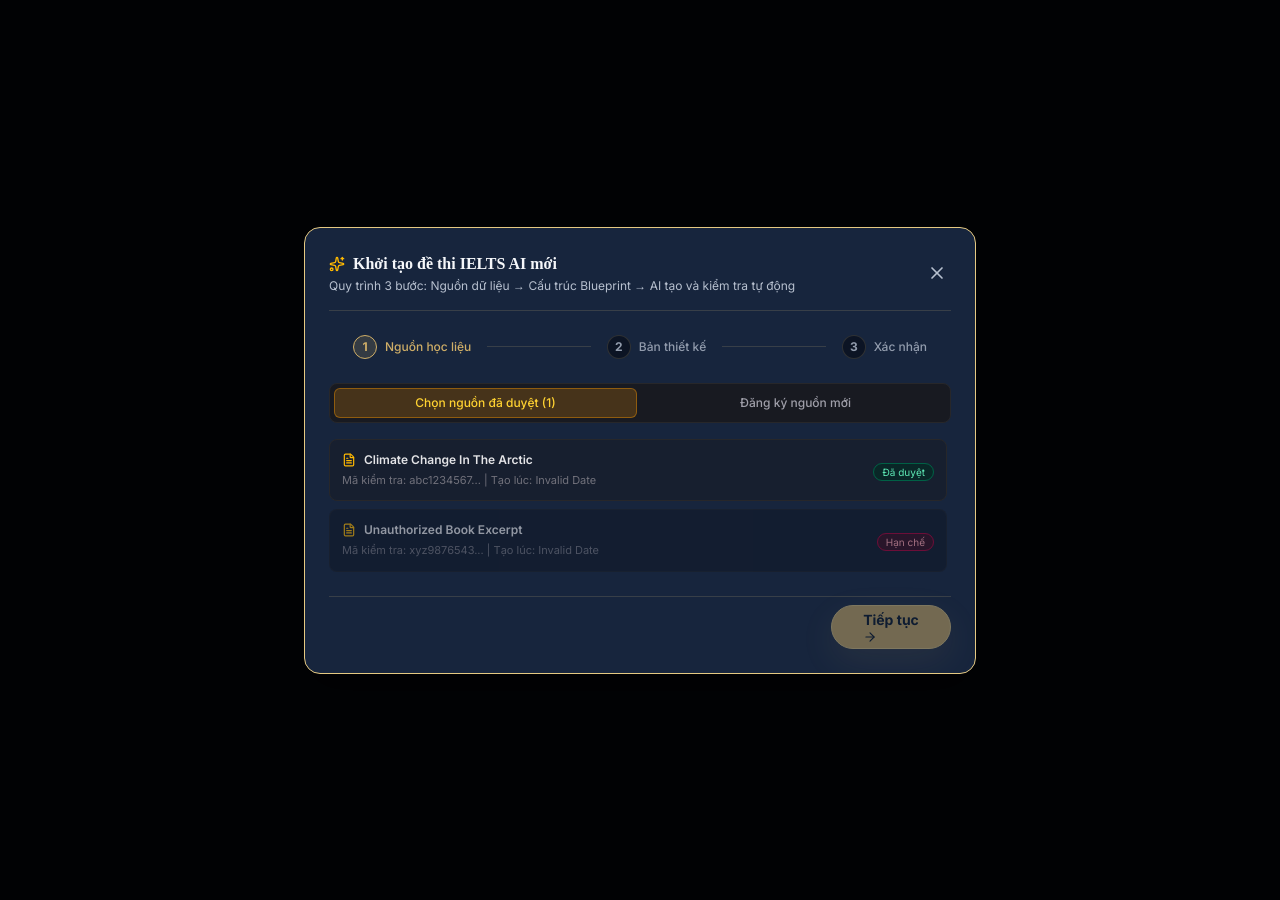
Test case: NewGenerationWizardModal › keeps generator confirmation content readable and reports a contextual launch error
Step 1. Click the text "Climate Change In The Arctic" → (448, 460), box [364,452,533,468]
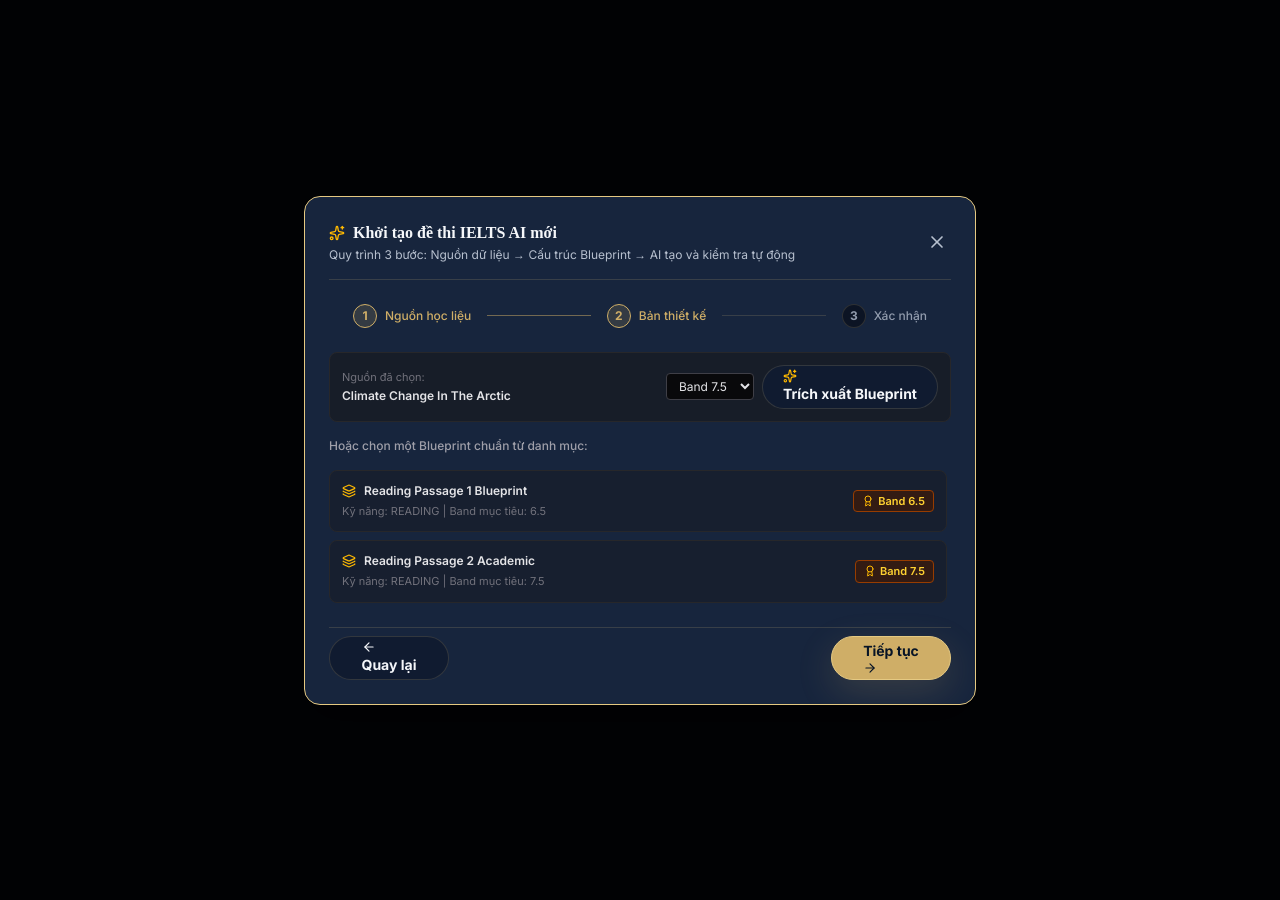
Step 2. Click the text "Reading Passage 2 Academic" → (450, 561), box [364,553,535,569]
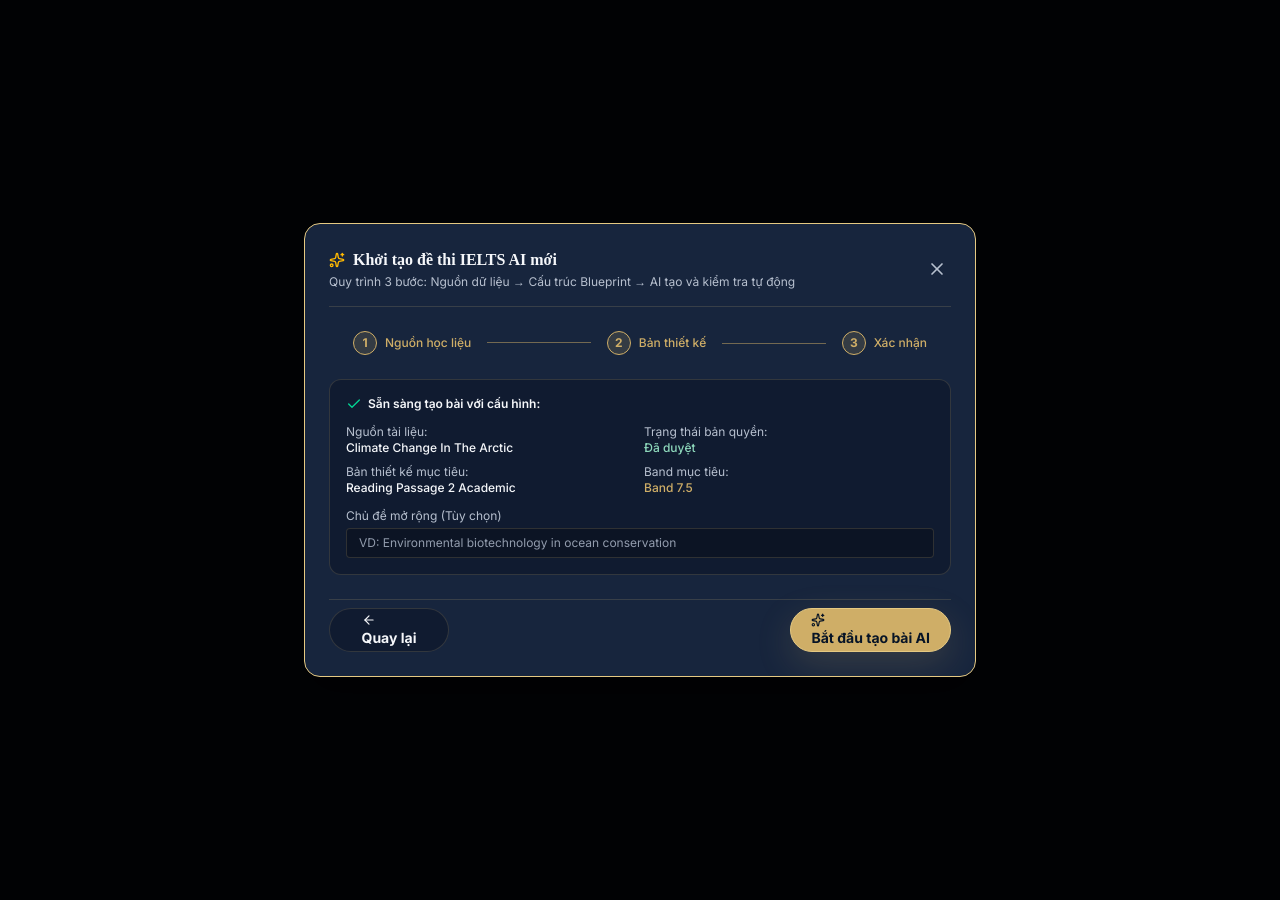
Step 3. Click the button "Bắt đầu tạo bài AI" → (871, 630), box [790,608,951,652]
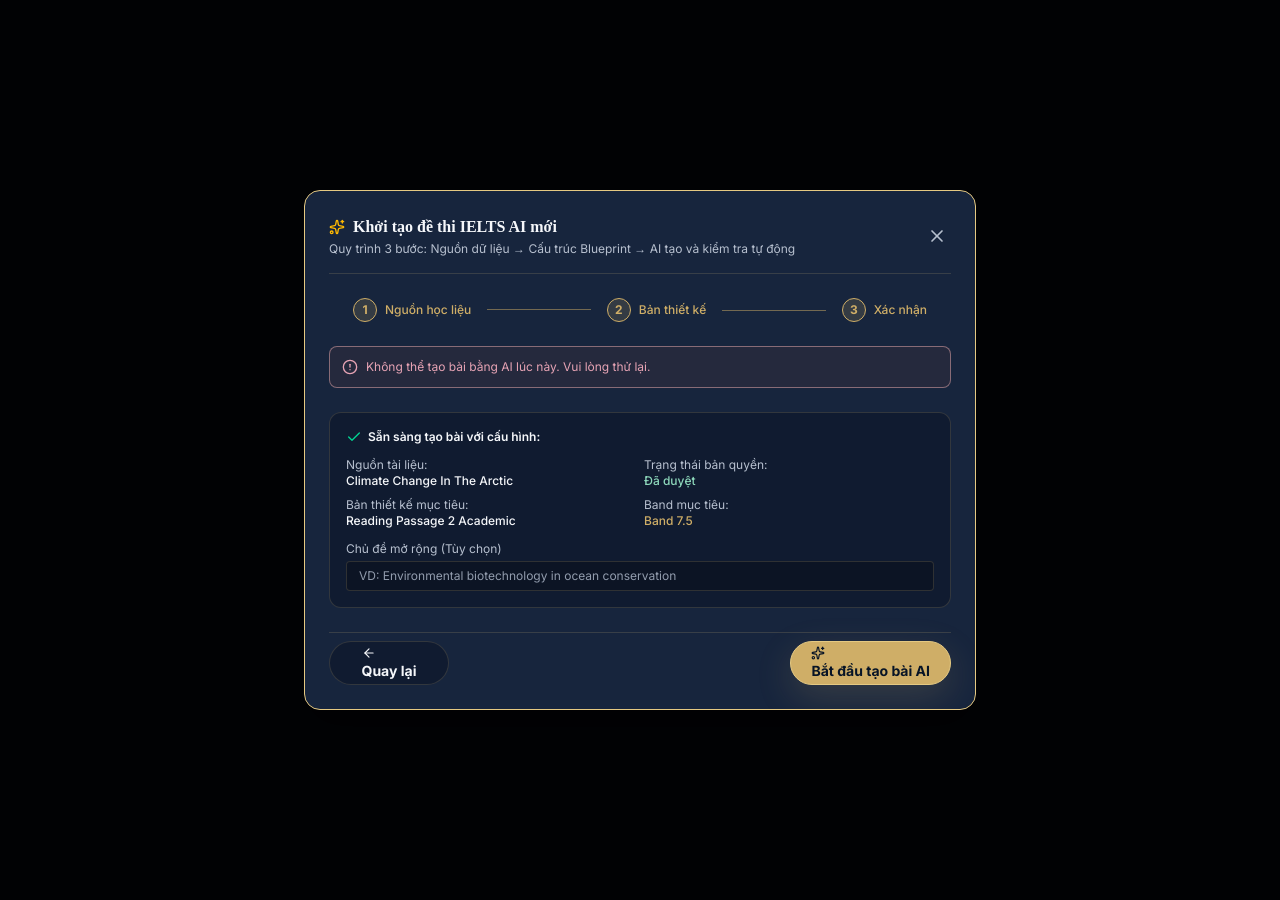
Result: the message reads "Không thể tạo bài bằng AI lúc này. Vui lòng thử lại." at [366,359,650,374]
